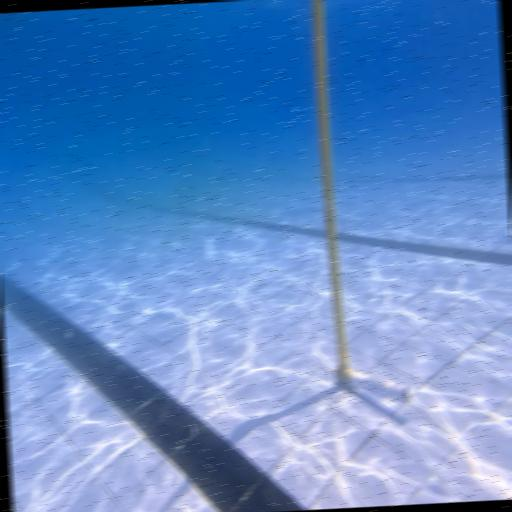pole_gate: (312, 0, 350, 384)
